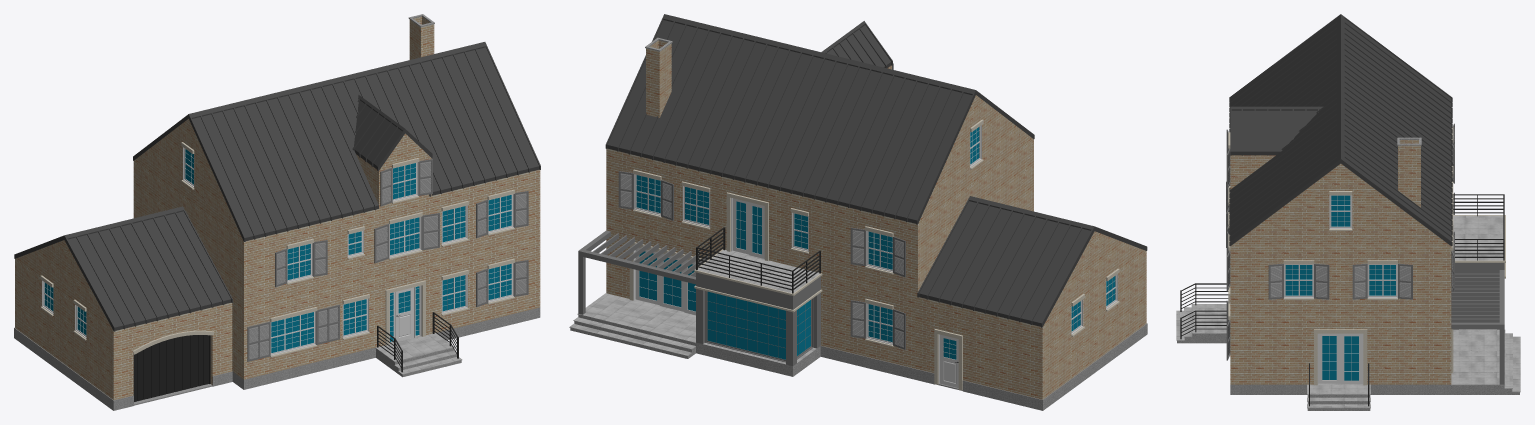
File: HouseF.fbx
3 views of the same model, side by side, from view 1: azimuth 30°, elevation 25°; view 2: azimuth 150°, elevation 25°; view 3: azimuth 270°, elevation 25° (orthographic). The views are drawn at different scales.
Parts seen in each view (by area): view 1: MBH1OBJ_01, MBH1OBJ_05, MBH1OBJ_02, MBH1OBJ_06, MBH1OBJ_03, MBH1OBJ_04; view 2: MBH1OBJ_01, MBH1OBJ_05, MBH1OBJ_02, MBH1OBJ_04, MBH1OBJ_03, MBH1OBJ_06, MBH1OBJ_07; view 3: MBH1OBJ_05, MBH1OBJ_01, MBH1OBJ_04, MBH1OBJ_02, MBH1OBJ_03, MBH1OBJ_06, MBH1OBJ_07.
Boxes of the visible parts, bbox=[...] form: MBH1OBJ_01: bbox=[14, 42, 540, 331]; MBH1OBJ_05: bbox=[15, 14, 540, 399]; MBH1OBJ_02: bbox=[40, 142, 528, 361]; MBH1OBJ_06: bbox=[132, 280, 425, 401]; MBH1OBJ_03: bbox=[14, 307, 540, 410]; MBH1OBJ_04: bbox=[375, 312, 462, 377]; MBH1OBJ_01: bbox=[605, 14, 1147, 327]; MBH1OBJ_05: bbox=[606, 37, 1146, 399]; MBH1OBJ_02: bbox=[618, 63, 1119, 362]; MBH1OBJ_04: bbox=[569, 230, 707, 358]; MBH1OBJ_03: bbox=[635, 250, 1147, 410]; MBH1OBJ_06: bbox=[629, 192, 962, 390]; MBH1OBJ_07: bbox=[696, 227, 820, 293]; MBH1OBJ_05: bbox=[1230, 137, 1505, 384]; MBH1OBJ_01: bbox=[1229, 14, 1452, 246]; MBH1OBJ_04: bbox=[1176, 270, 1520, 410]; MBH1OBJ_02: bbox=[1226, 123, 1454, 360]; MBH1OBJ_03: bbox=[1230, 219, 1496, 394]; MBH1OBJ_06: bbox=[1228, 181, 1453, 385]; MBH1OBJ_07: bbox=[1453, 194, 1504, 260].
Size of the model in its own units: 2083 by 1057 by 1377.
10 materials, 4 textured.
